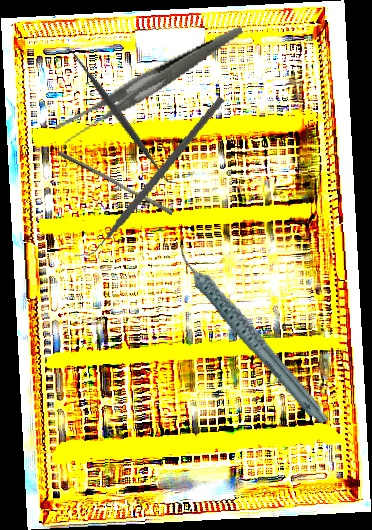Chopper: (72, 79, 225, 275)
Dressing Forceps: (42, 26, 258, 146)
Handpiece: (176, 221, 330, 446)
Pusher: (55, 150, 176, 216)
Spatula Surgical: (61, 40, 180, 193)
